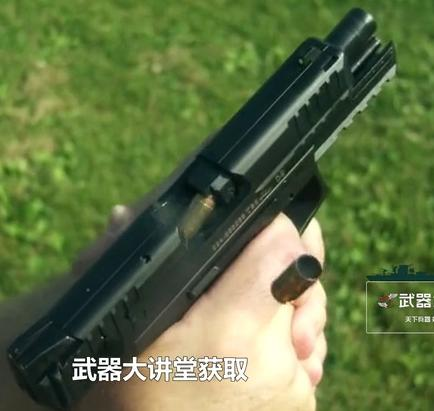gun: (1, 1, 434, 411)
